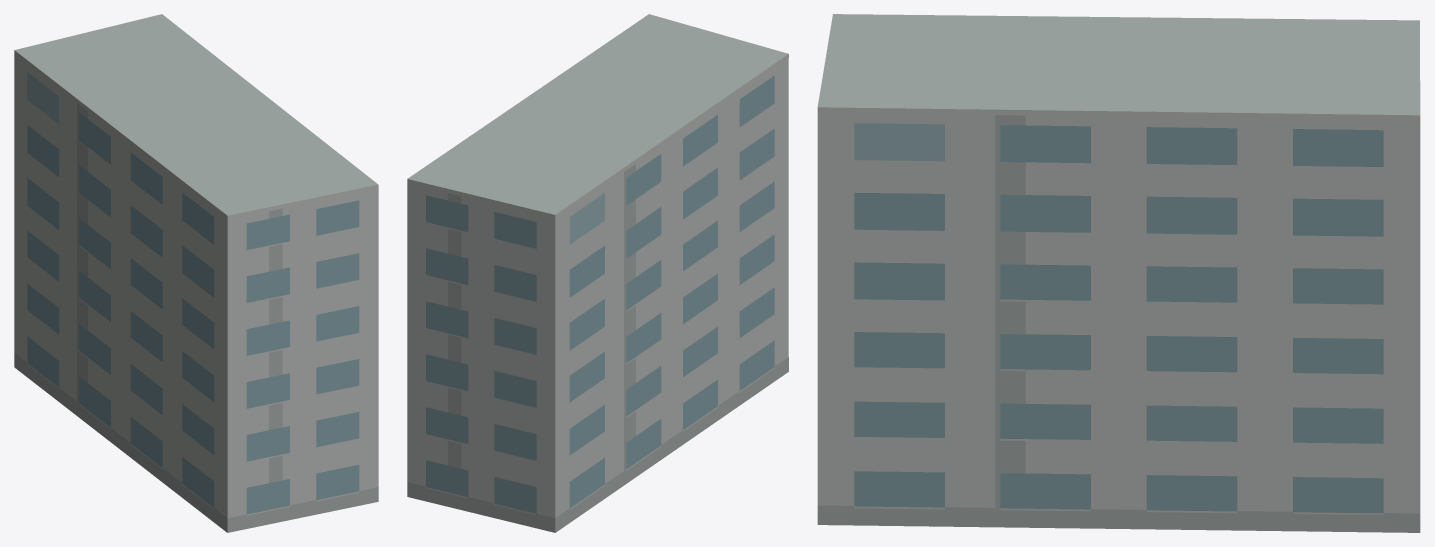
Rendered from survey-upis-32820450.glb.
The picture shows the model from 3 angles, left to right: view 1: azimuth 30°, elevation 25°; view 2: azimuth 150°, elevation 25°; view 3: azimuth 270°, elevation 25°; orthographic projection. The views are drawn at different scales.
Parts seen in each view (by area): view 1: survey-upis-32820450.tmp; view 2: survey-upis-32820450.tmp; view 3: survey-upis-32820450.tmp.
Boxes of the visible parts, x1,y1,x2,y2 form: survey-upis-32820450.tmp: (14, 14, 378, 532); survey-upis-32820450.tmp: (407, 14, 788, 532); survey-upis-32820450.tmp: (817, 14, 1420, 532).
Bounding box in the file's own units: 9.53 × 18.3 × 23.95.
